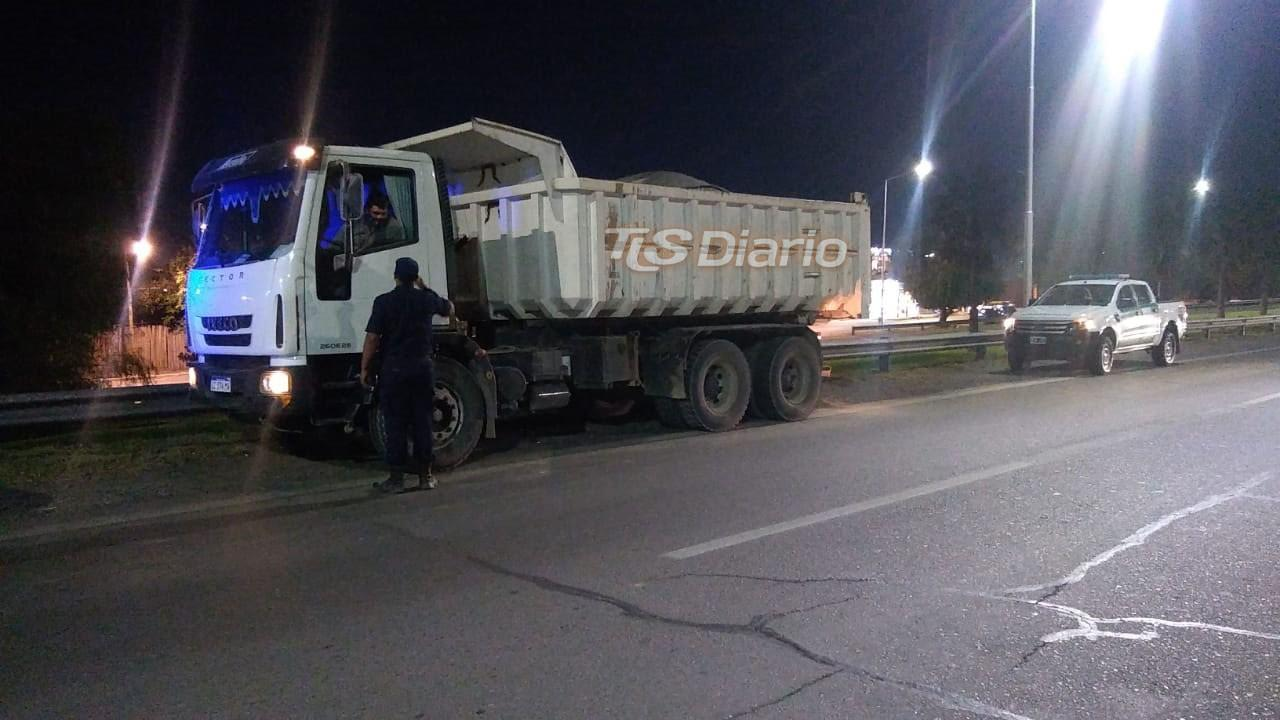vehicle: (184, 117, 871, 470), (1004, 274, 1187, 375)
